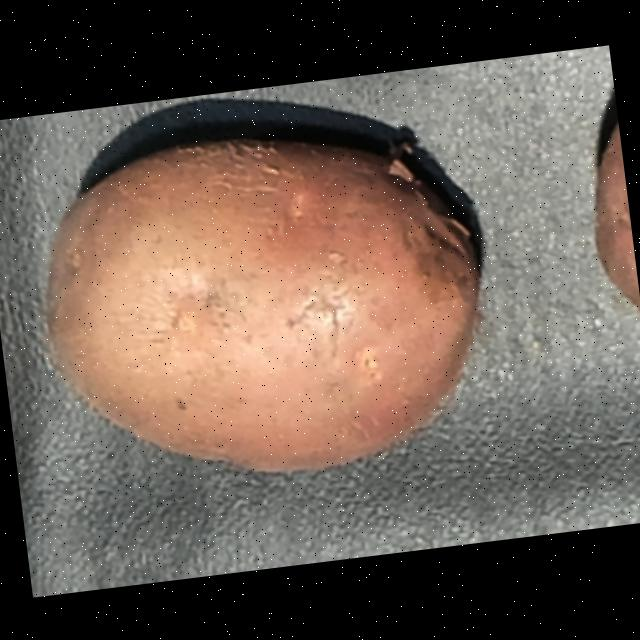Diseased-fungal potato: (6, 90, 514, 506)
